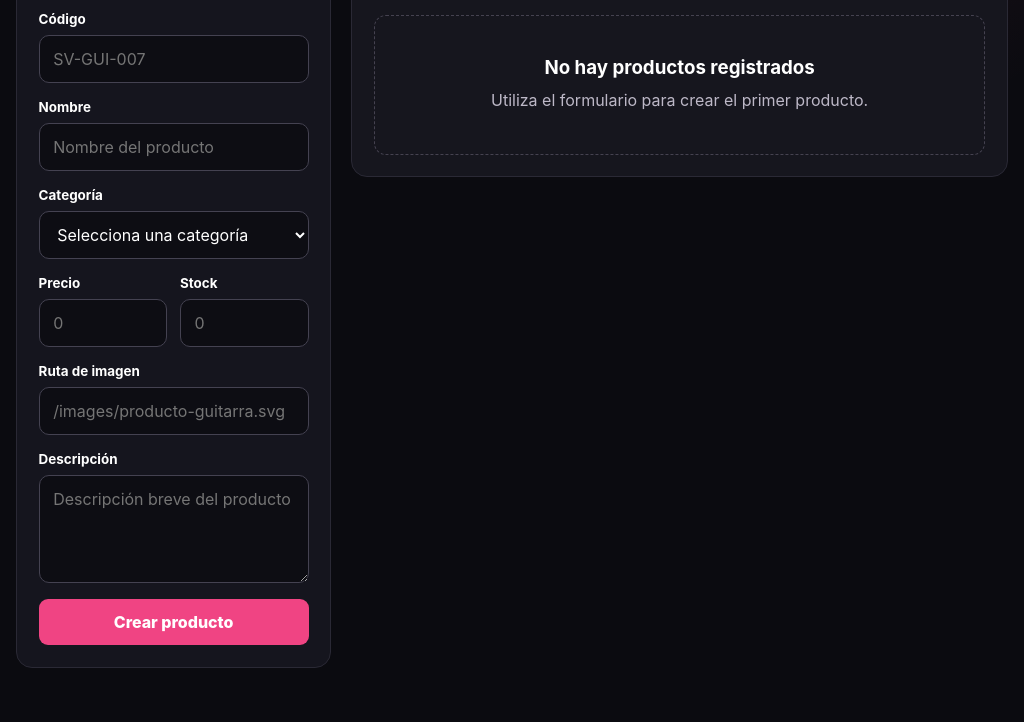
administración de productos › presenta los errores de validación devueltos por el servicio
(page scrolled)
Click the button "Crear producto" at (174, 622), box [39,599,309,645]
(page scrolled)
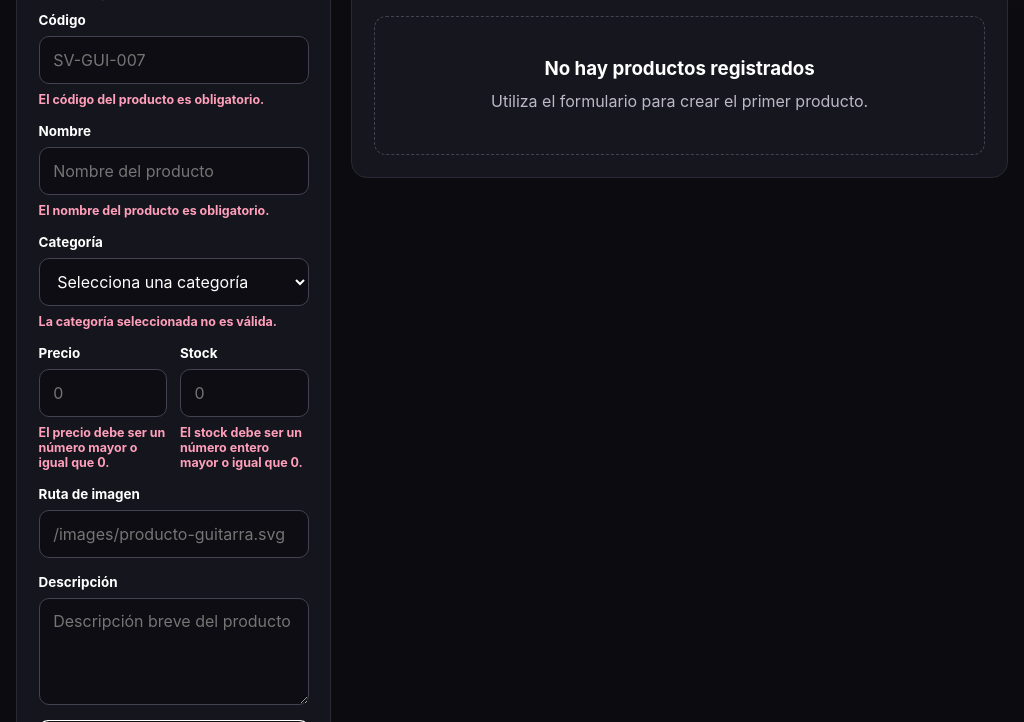
Expected: the heading "No hay productos registrados" is shown, [544,57,815,80]
Expected: the text "El código del producto es obligatorio." is shown, [39,92,264,107]
